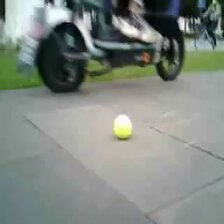tennis: (114, 115, 132, 138)
